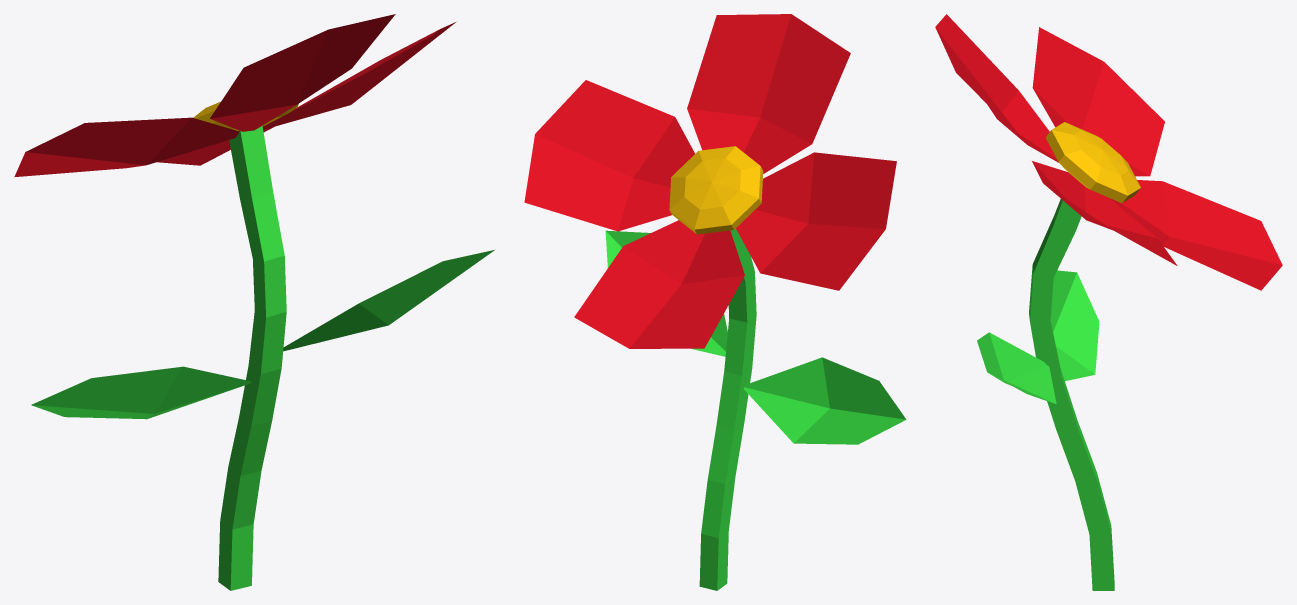
File: flower.fbx
3 renders of one model, left to right at view 1: azimuth 30°, elevation 25°; view 2: azimuth 150°, elevation 25°; view 3: azimuth 270°, elevation 25°, orthographic. The views are drawn at different scales.
Parts seen in each view (by area): view 1: flower; view 2: flower; view 3: flower.
Boxes of the visible parts, x1,y1,x2,y2 form: flower: [14, 14, 494, 590]; flower: [524, 14, 906, 590]; flower: [935, 14, 1282, 590].
Size of the model in its own units: 769 by 1066 by 601.
